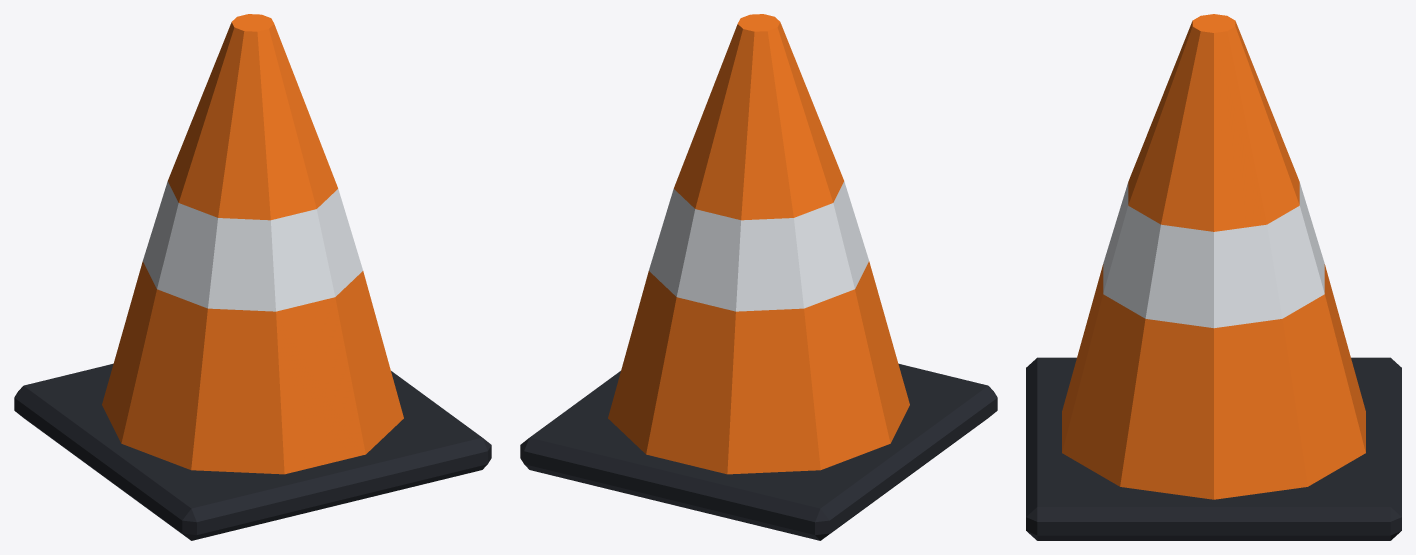
3 views of the same model, side by side, from view 1: azimuth 30°, elevation 25°; view 2: azimuth 150°, elevation 25°; view 3: azimuth 270°, elevation 25° (orthographic). The views are drawn at different scales.
Visible parts, largest first — view 1: Cone; view 2: Cone; view 3: Cone.
Boxes of the visible parts, x1,y1,x2,y2 form: Cone: (14,14,491,540); Cone: (520,14,997,540); Cone: (1026,14,1401,540).
Bounding box in the file's own units: 2 × 2.6 × 2.
1 material, 1 textured.
